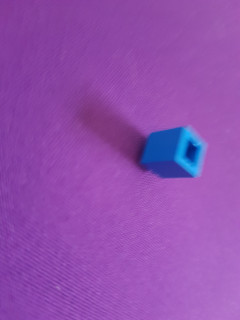1x1 blue: (137, 123, 209, 183)
